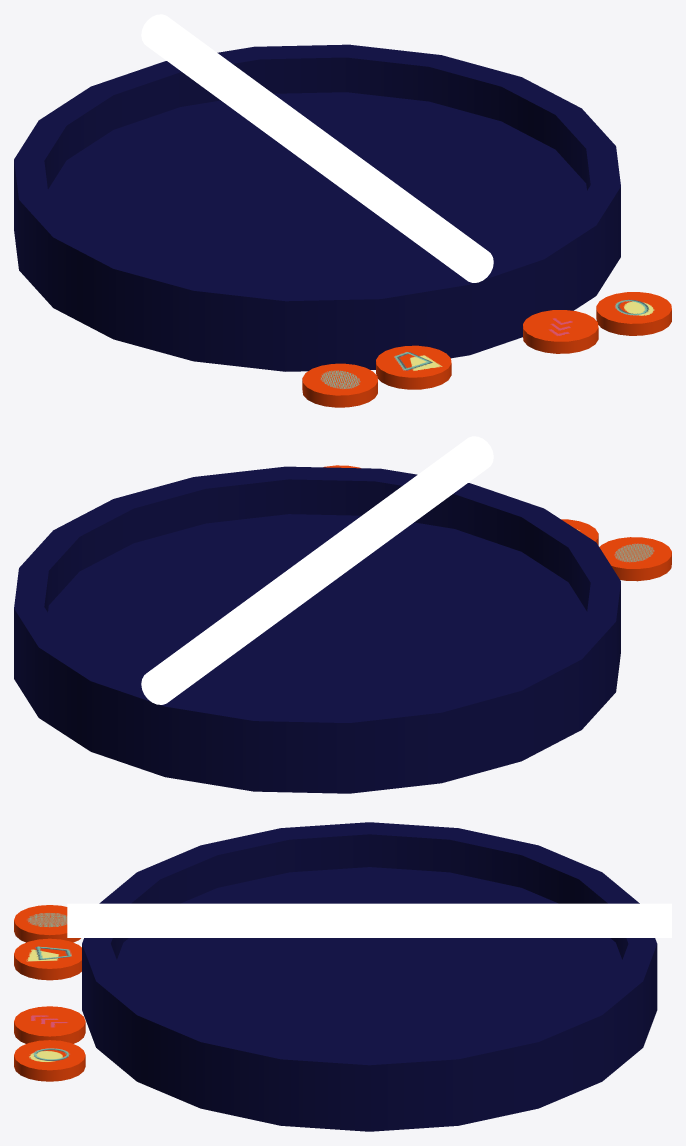
File: MemoryG.fbx
The picture shows the model from 3 angles, top to bottom: view 1: azimuth 30°, elevation 25°; view 2: azimuth 150°, elevation 25°; view 3: azimuth 270°, elevation 25°; orthographic projection. The views are drawn at different scales.
Visible parts, largest first — view 1: pCylinder5, pCylinder6, pCylinder2, pCylinder4, pCylinder3, pCylinder1; view 2: pCylinder5, pCylinder6, pCylinder2; view 3: pCylinder5, pCylinder6, pCylinder1, pCylinder4, pCylinder3, pCylinder2.
Part boxes in pixels (left/top/right/bottom): pCylinder5: left=14, top=44, right=620, bottom=371; pCylinder6: left=141, top=14, right=493, bottom=282; pCylinder2: left=302, top=363, right=377, bottom=407; pCylinder4: left=376, top=345, right=451, bottom=389; pCylinder3: left=523, top=310, right=598, bottom=353; pCylinder1: left=596, top=292, right=671, bottom=335; pCylinder5: left=14, top=466, right=620, bottom=793; pCylinder6: left=141, top=436, right=493, bottom=704; pCylinder2: left=599, top=537, right=671, bottom=581; pCylinder5: left=82, top=822, right=657, bottom=1131; pCylinder6: left=67, top=903, right=671, bottom=937; pCylinder1: left=14, top=1040, right=85, bottom=1081; pCylinder4: left=14, top=938, right=81, bottom=980; pCylinder3: left=14, top=1006, right=85, bottom=1043; pCylinder2: left=14, top=905, right=80, bottom=942.
Bounding box in the file's own units: 35.97 × 7.25 × 41.15.
